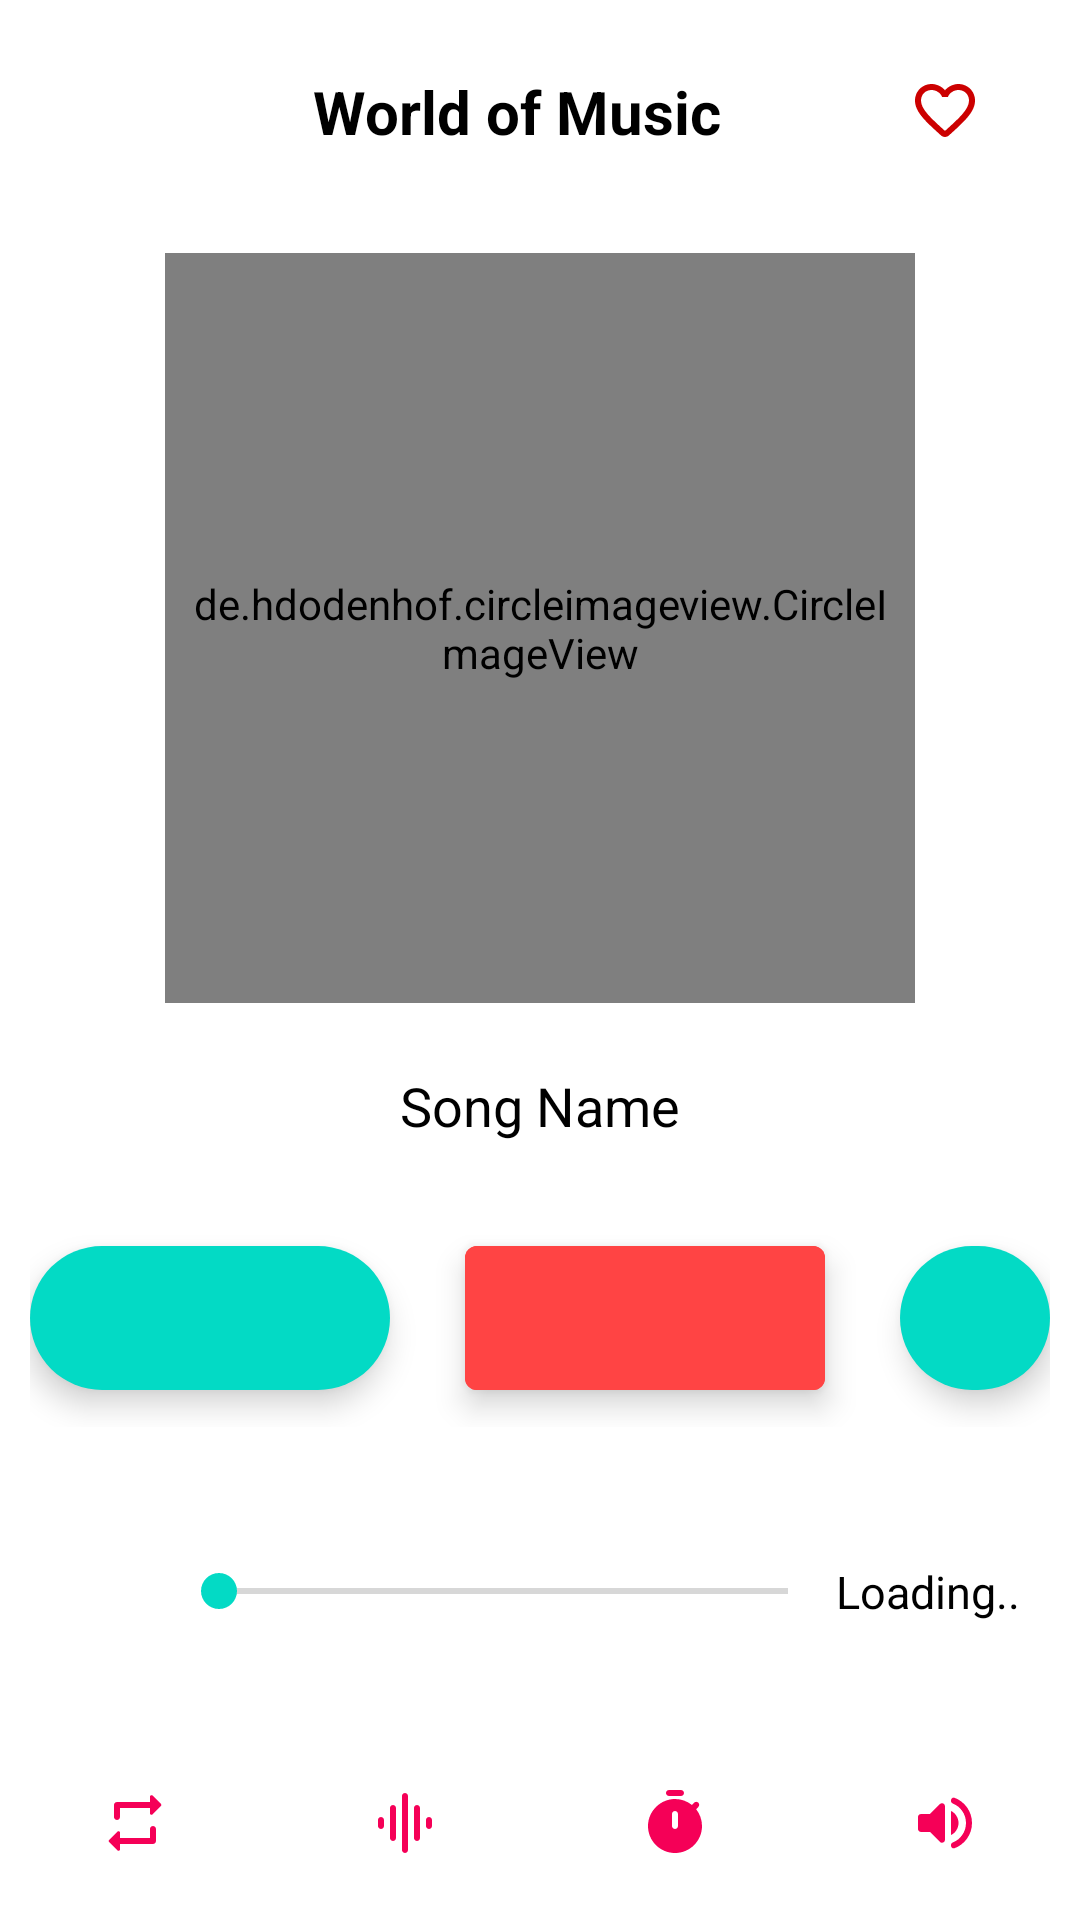

Screen size 1080w x 1920h. Icon name, then its center in pixels as [x,y]:
Equalizer: [405,1823]
Favourites: [945,110]
Repeat: [135,1823]
Timer: [675,1821]
